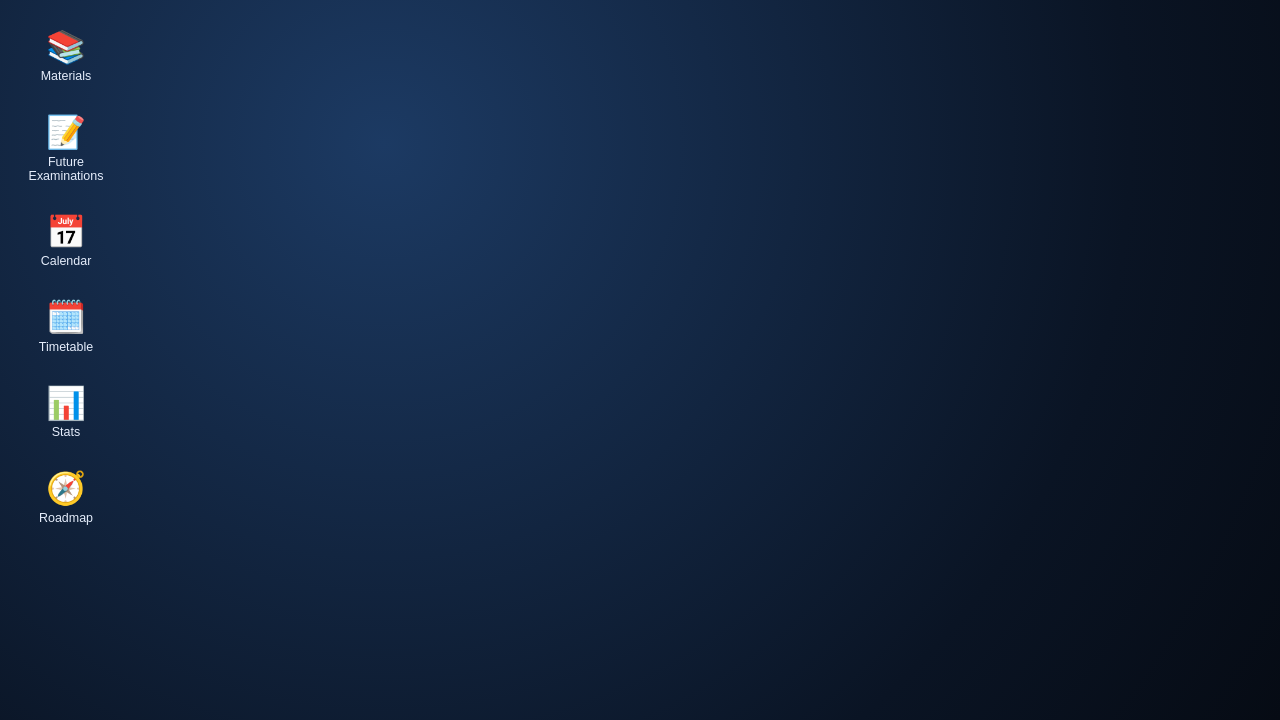
Test: DesktopEnvironment › closing a window removes it from the open-window state
Click the list item with test id "desktop-icon-stats" at (66, 413), box left=20, top=376, right=112, bottom=450
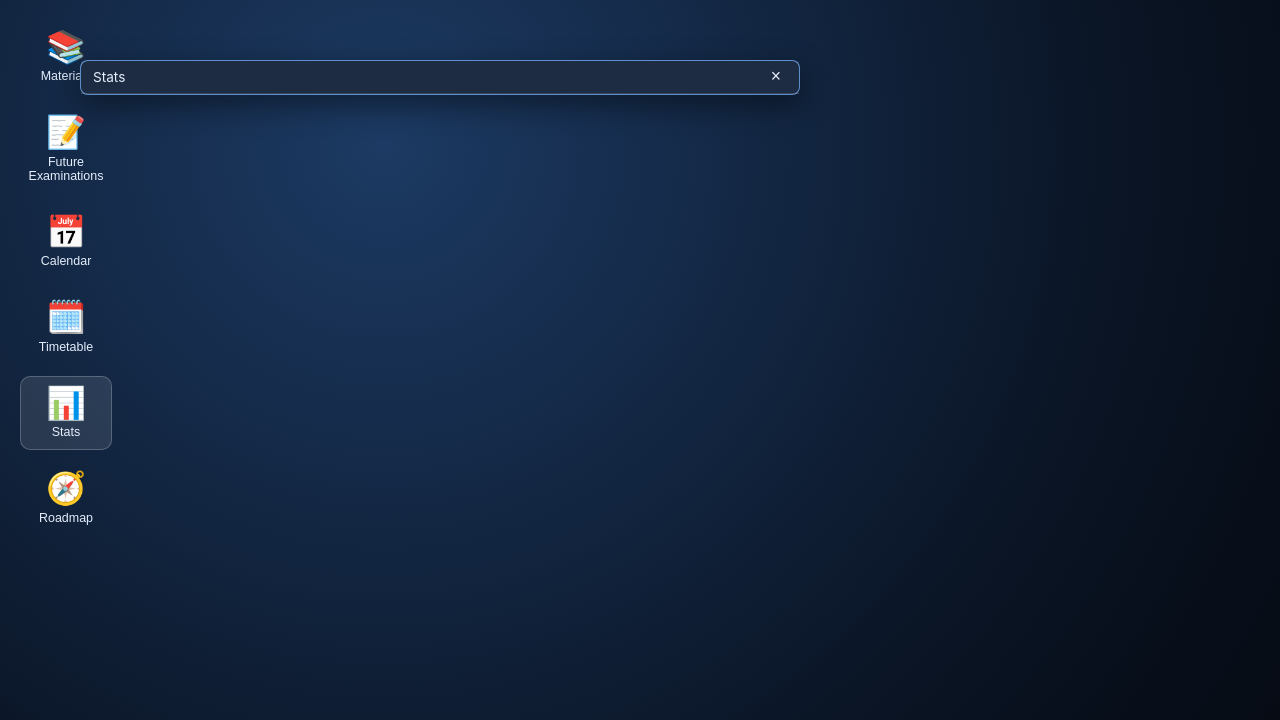
expect the element with test id "window-stats" is shown: met, box left=80, top=60, right=800, bottom=95
Click the button with test id "window-close-stats" at (776, 77), box left=765, top=67, right=787, bottom=87
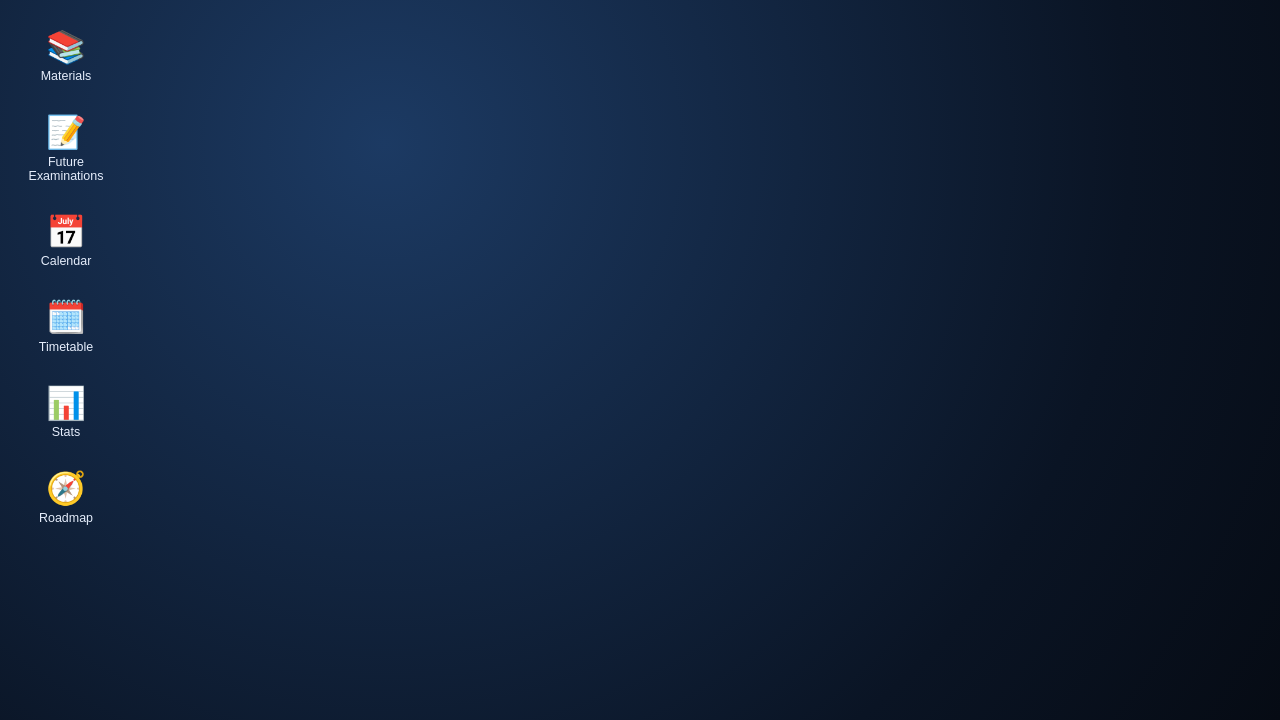
expect the element with test id "window-stats" is gone: met
